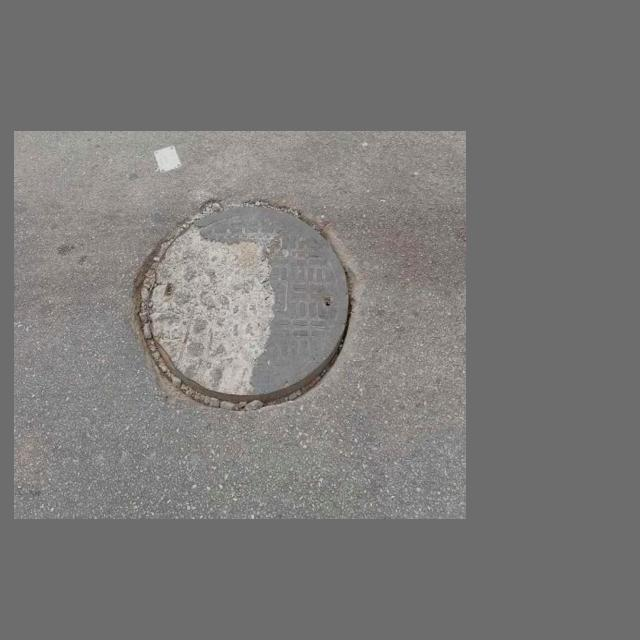circle: (122, 186, 362, 415)
